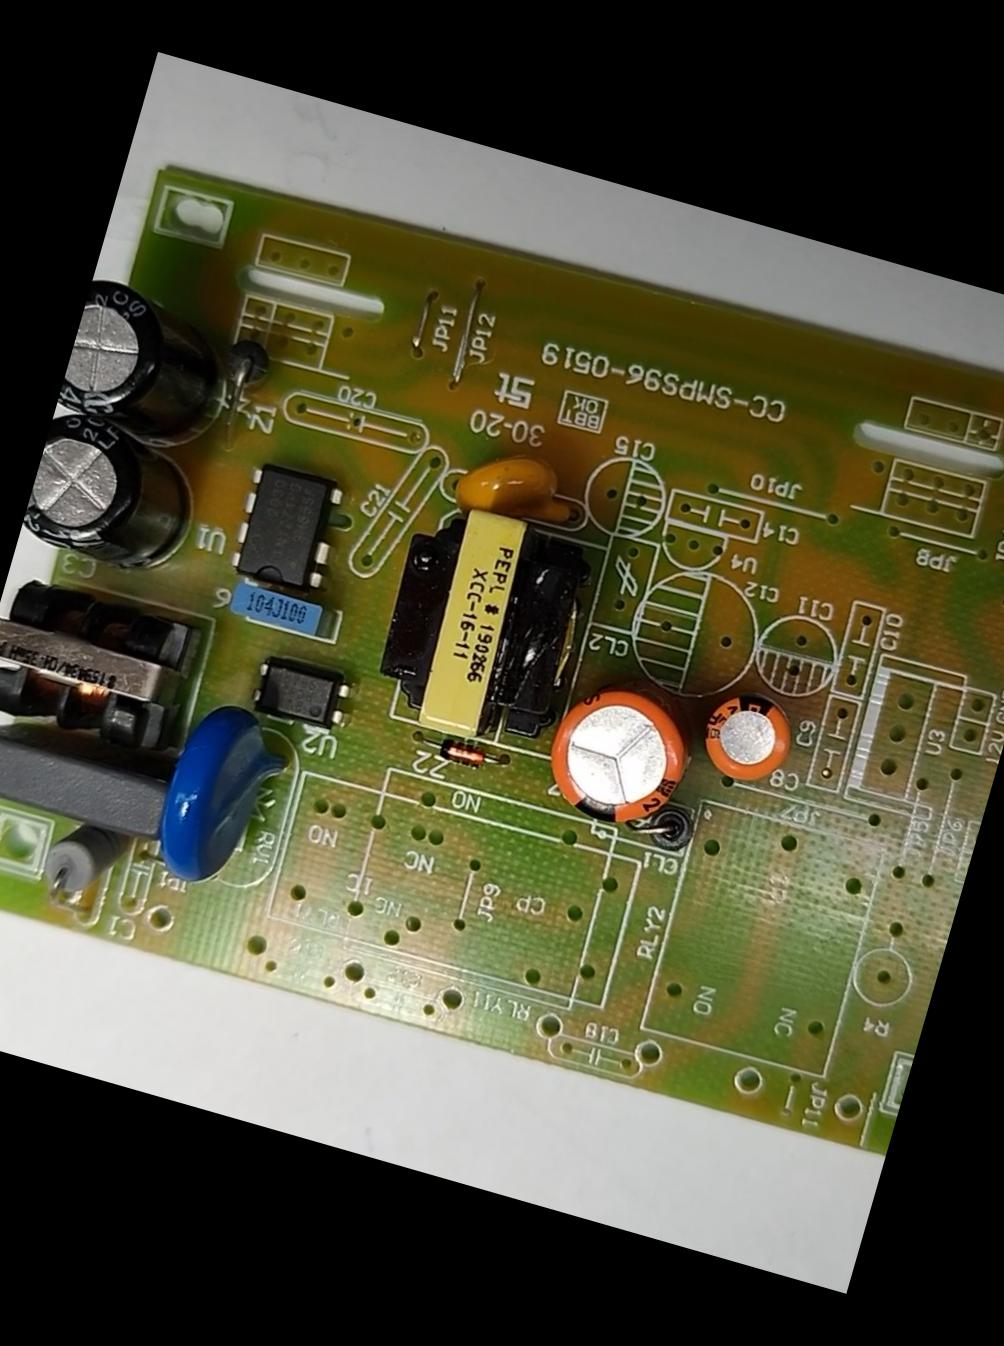Cap1: (530, 674, 706, 844)
Cap2: (690, 682, 803, 793)
Cap3: (16, 402, 218, 591)
Cap4: (55, 272, 242, 453)
MOSFET: (216, 458, 348, 604)
Mov: (140, 692, 306, 905)
Resistor: (34, 816, 141, 912)
Transformer: (358, 483, 599, 759), (0, 561, 202, 765)
